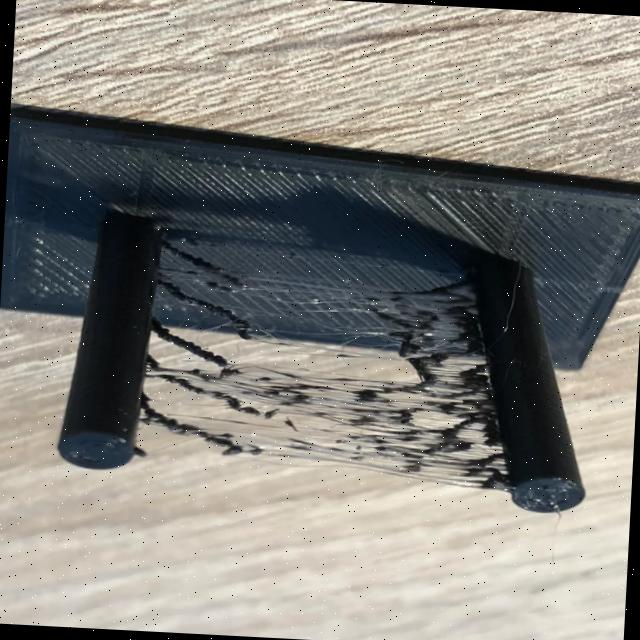stringing: (133, 233, 514, 486)
